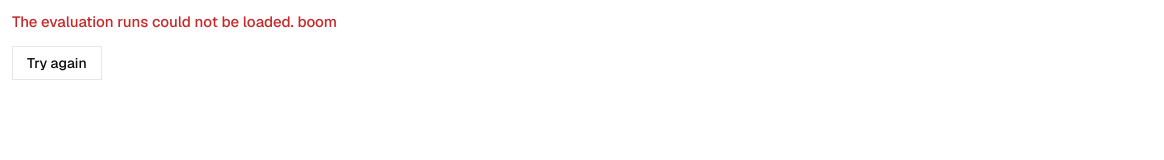
Scenario: the Evaluations tab › says plainly when there are no runs, and when the list cannot be loaded
Later steps or results of the test are not shown.
Expected: the message shows "The evaluation runs could not be loaded.", [12,12,298,31]
Click the button "Try again". click: x=57, y=63
box: [12,46,102,80]
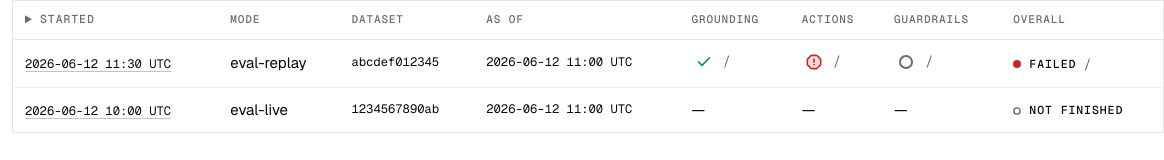
Result: the table named "Evaluation runs" is shown
